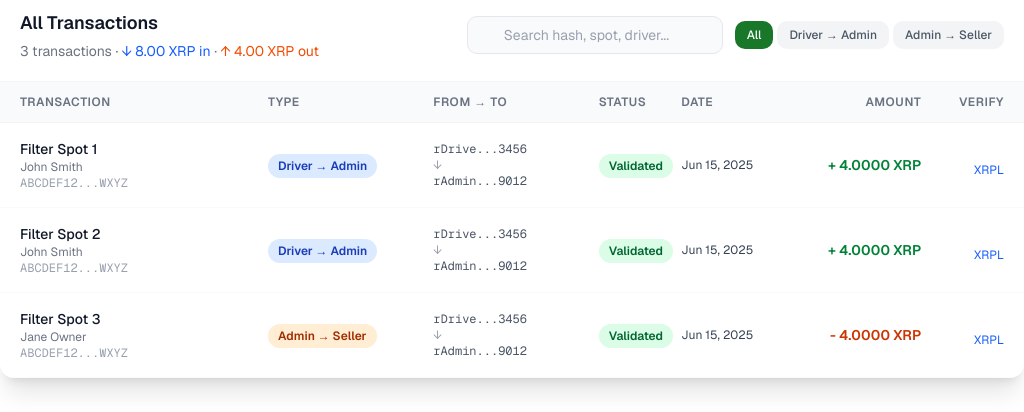
it: TransactionTable Component › Type Filter Buttons › Driver → Admin filter shows only those
Check: the text "Filter Spot 1" is shown, box [20,140,97,158]
Click the button "Driver → Admin". click: click(833, 35)
box: [777,21,889,49]
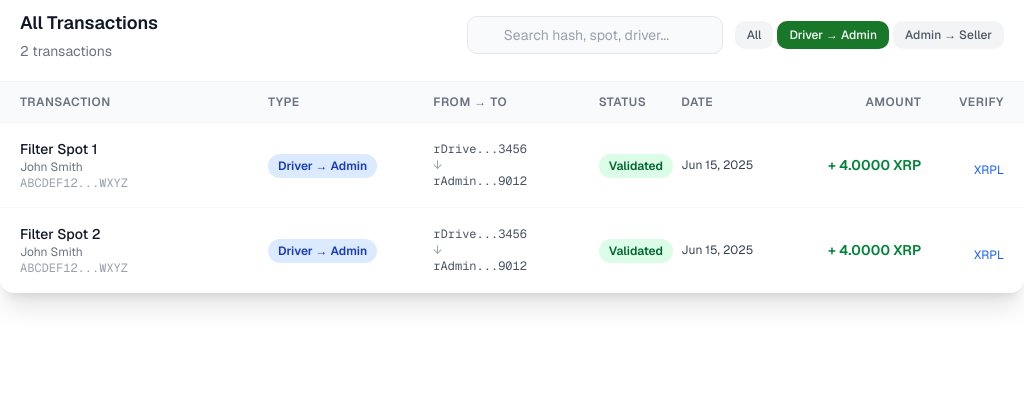
Check: the text "Filter Spot 1" is shown, box [20,140,97,158]
Check: the text "Filter Spot 3" is gone
